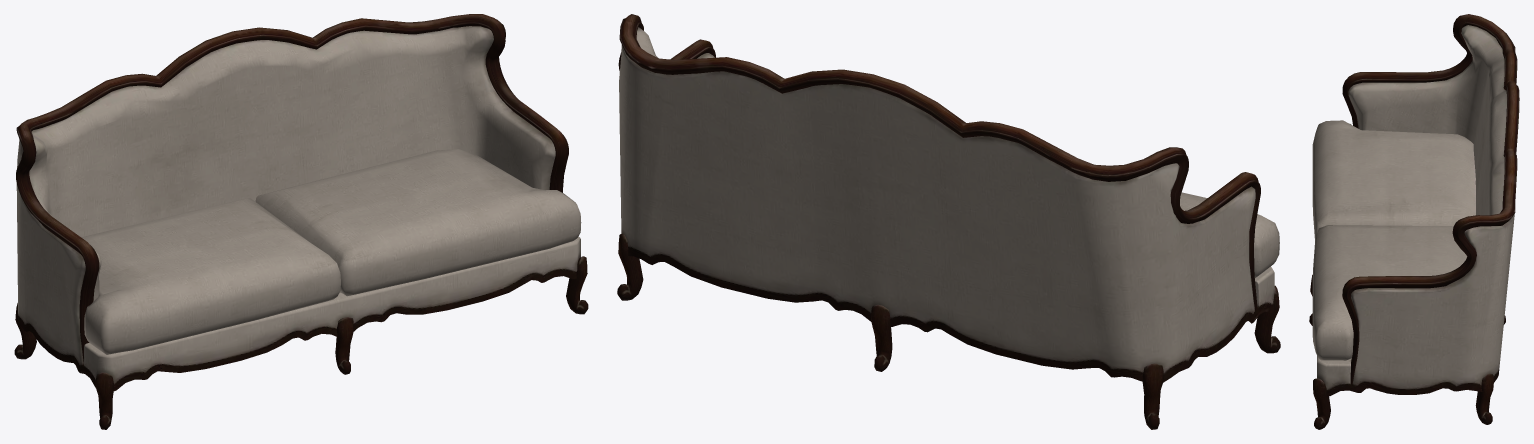
File: Sofa_01.glb
3 renders of one model, left to right at view 1: azimuth 30°, elevation 25°; view 2: azimuth 150°, elevation 25°; view 3: azimuth 270°, elevation 25°, orthographic. The views are drawn at different scales.
Visible parts, largest first — view 1: Sofa_01; view 2: Sofa_01; view 3: Sofa_01.
Boxes of the visible parts, bbox=[...] form: Sofa_01: bbox=[14, 14, 588, 429]; Sofa_01: bbox=[617, 14, 1280, 429]; Sofa_01: bbox=[1309, 14, 1519, 429].
Bounding box in the file's own units: 1.57 × 0.7966 × 0.658.
Materials: 1 (1 with a texture image).
